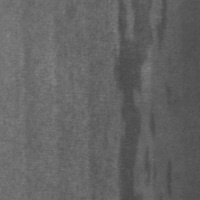inclusion: (114, 1, 154, 198), (153, 1, 174, 52)
